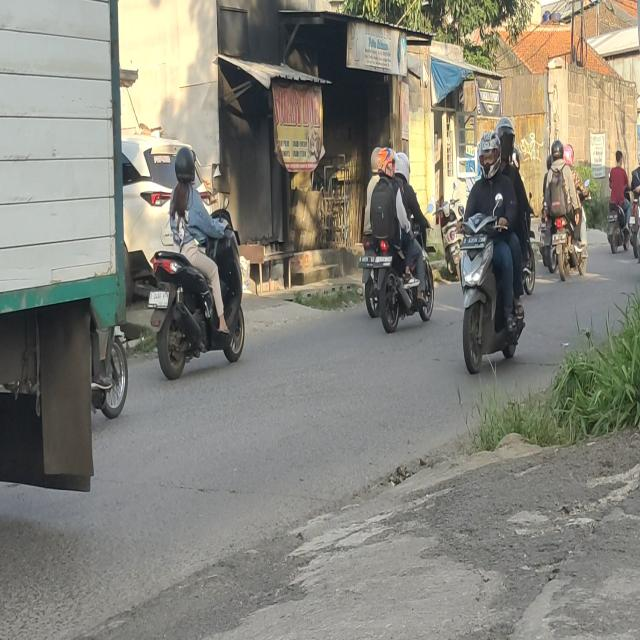helmet: (478, 135, 502, 179), (495, 115, 516, 161), (176, 146, 198, 185), (380, 147, 397, 179), (396, 151, 411, 184), (370, 147, 380, 172), (552, 140, 563, 160), (564, 145, 574, 167)
no-helmet: (616, 150, 623, 166)
